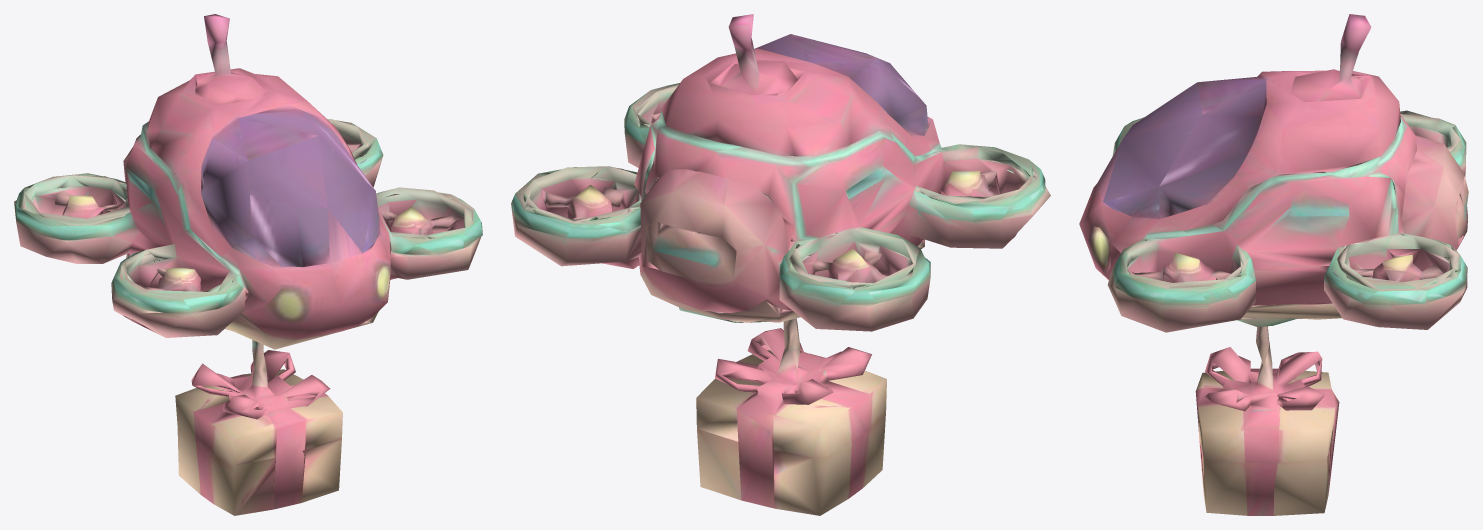
File: delivery.glb
3 views of the same model, side by side, from view 1: azimuth 30°, elevation 25°; view 2: azimuth 150°, elevation 25°; view 3: azimuth 270°, elevation 25° (orthographic). The views are drawn at different scales.
Visible parts, largest first — view 1: V07_delivery-drone; view 2: V07_delivery-drone; view 3: V07_delivery-drone.
Part boxes in pixels (x1=…): V07_delivery-drone: x1=14, y1=14, x2=482, y2=515; V07_delivery-drone: x1=511, y1=14, x2=1050, y2=515; V07_delivery-drone: x1=1079, y1=14, x2=1468, y2=515.
Size of the model in its own units: 0.8384 by 1 by 0.7444.
1 material, 1 textured.
